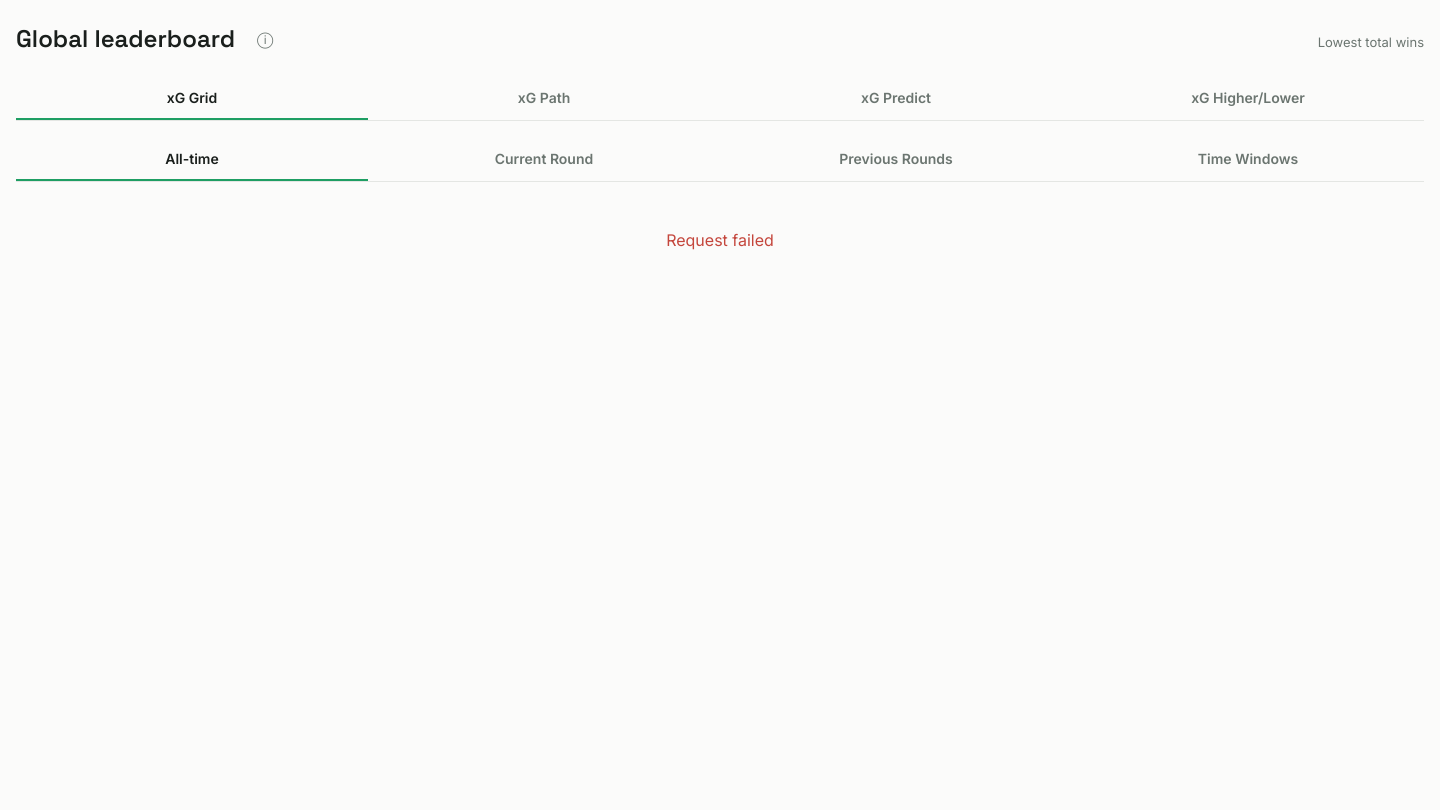
LeaderboardScreen › scoring explainer entry point › REQ-213: opens while the all-time scope (the scope fetched on mount) is in an error state
This screenshot has width=1440, height=810.
Expected: the text "Request failed" is shown, [666,230,774,250]
Click the button named "How scoring works" at coordinates (265, 38), box [243,16,287,60]
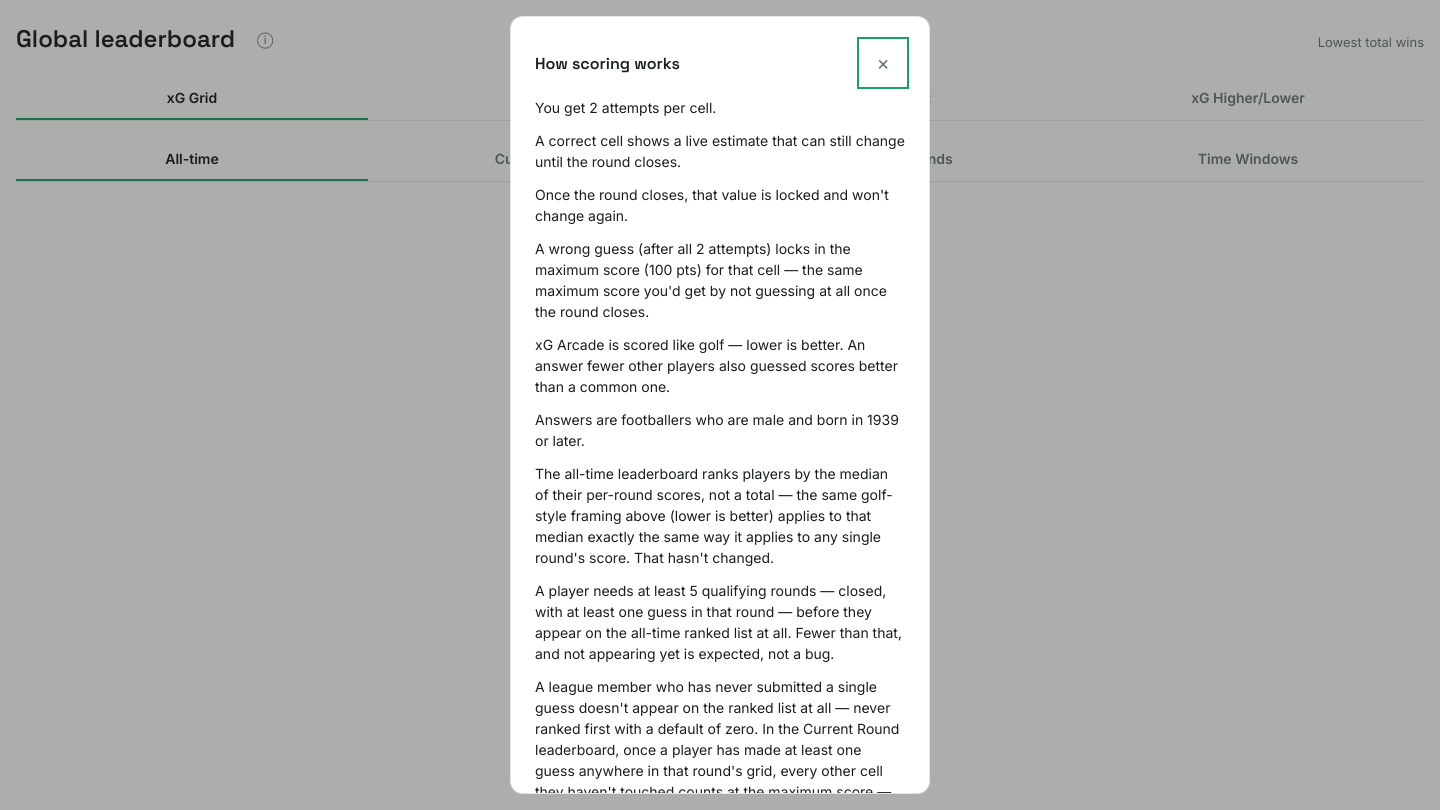
Now the dialog "How scoring works" is shown, box [510,16,930,794]
